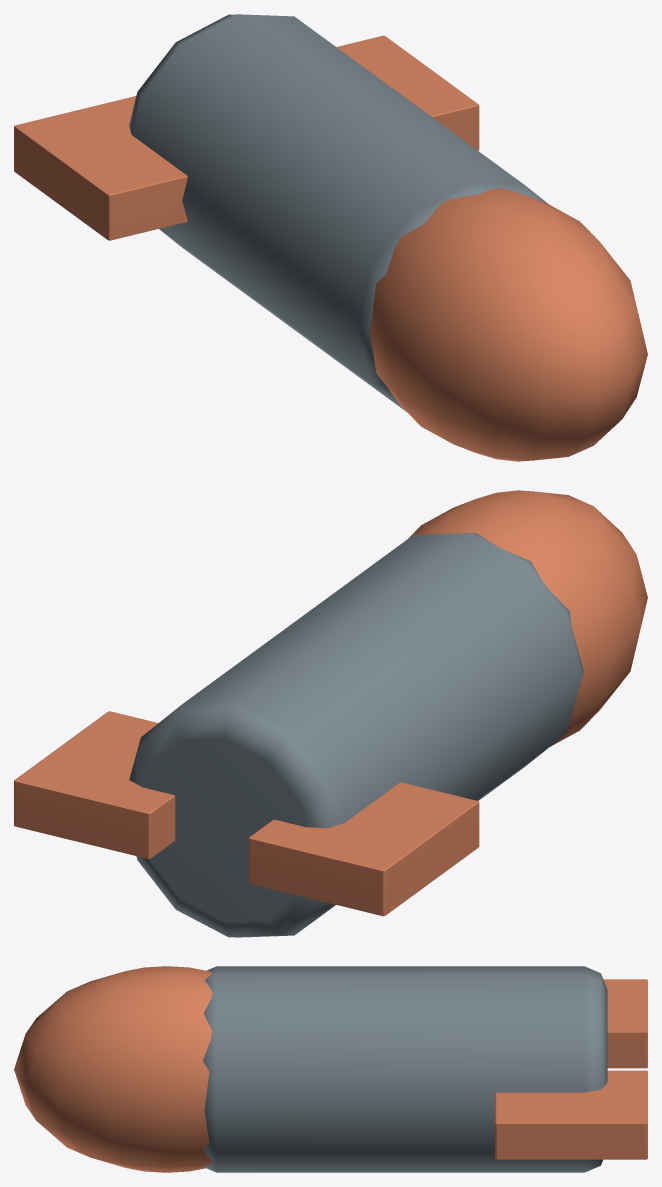
The model's file is shell_rocket.glb.
The picture shows the model from 3 angles, top to bottom: view 1: azimuth 30°, elevation 25°; view 2: azimuth 150°, elevation 25°; view 3: azimuth 270°, elevation 25°; orthographic projection. The views are drawn at different scales.
Visible parts, largest first — view 1: Rocket body, Rocket nose, Rocket fin, Rocket fin.001; view 2: Rocket body, Rocket nose, Rocket fin, Rocket fin.001; view 3: Rocket body, Rocket nose, Rocket fin.001, Rocket fin.
Boxes of the visible parts, x1,y1,x2,y2 form: Rocket body: [129, 14, 547, 411]; Rocket nose: [370, 188, 647, 461]; Rocket fin: [14, 96, 187, 240]; Rocket fin.001: [336, 35, 479, 150]; Rocket body: [129, 533, 583, 937]; Rocket nose: [408, 490, 647, 746]; Rocket fin: [248, 782, 479, 916]; Rocket fin.001: [14, 711, 175, 858]; Rocket body: [203, 966, 607, 1172]; Rocket nose: [14, 966, 212, 1172]; Rocket fin.001: [495, 1070, 647, 1159]; Rocket fin: [603, 979, 647, 1068].
Bounding box in the file's own units: 0.38 × 0.23 × 0.705.
